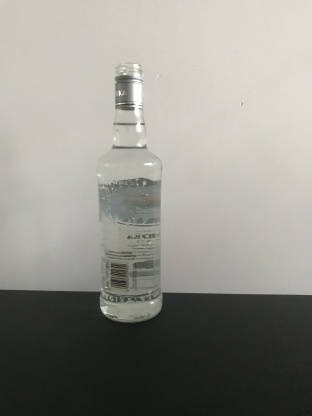nakretka: (112, 60, 145, 111)
